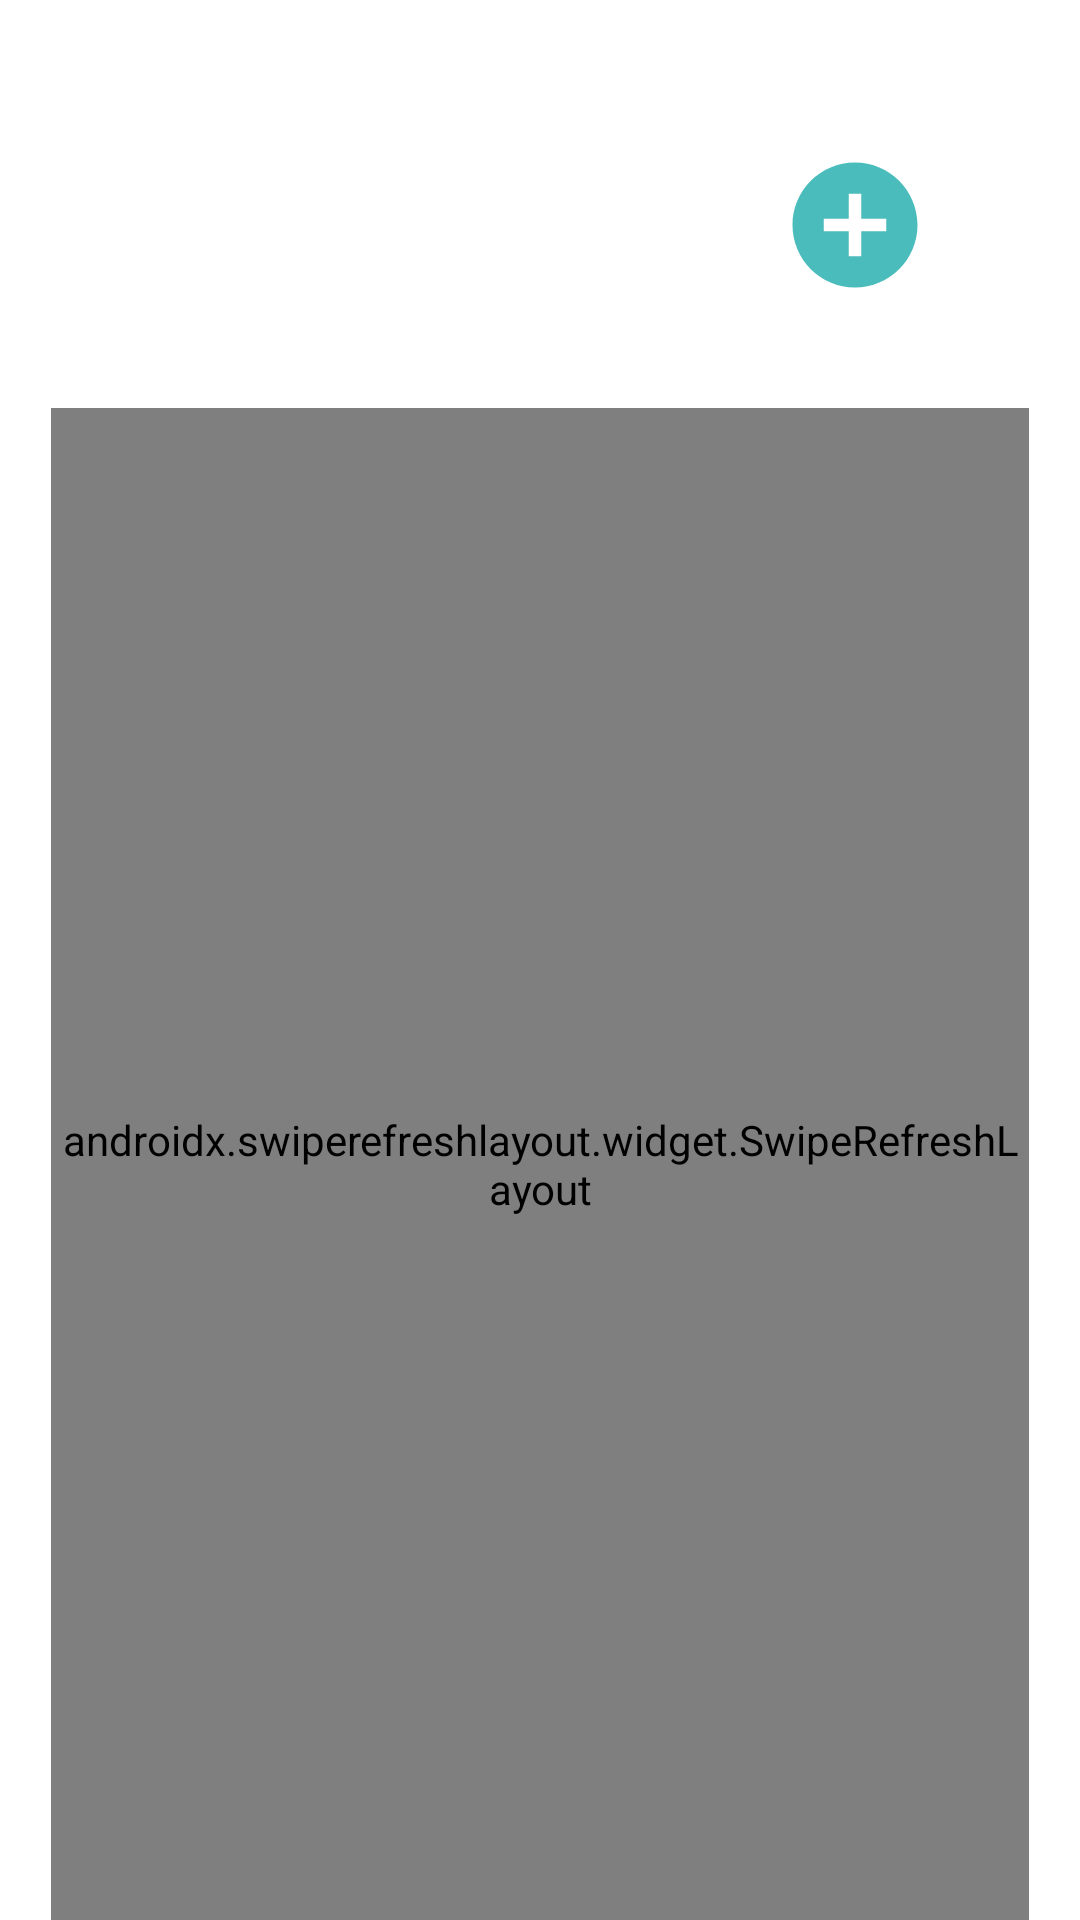

Icon bounding boxes for this 1080*1920 phone screenshot, format (x1, y1, x2, y2):
add circle: (792, 162, 918, 288)
